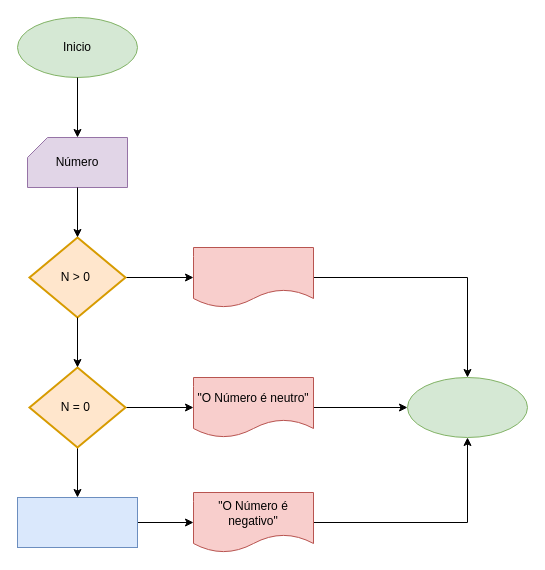
This 545x570 diagram has some shape labels left out. The centre of each missing label's shape, as x and y in pixels:
"O Número é positivo": pixel 253 277
FIm: pixel 467 407
N < 0: pixel 77 522
